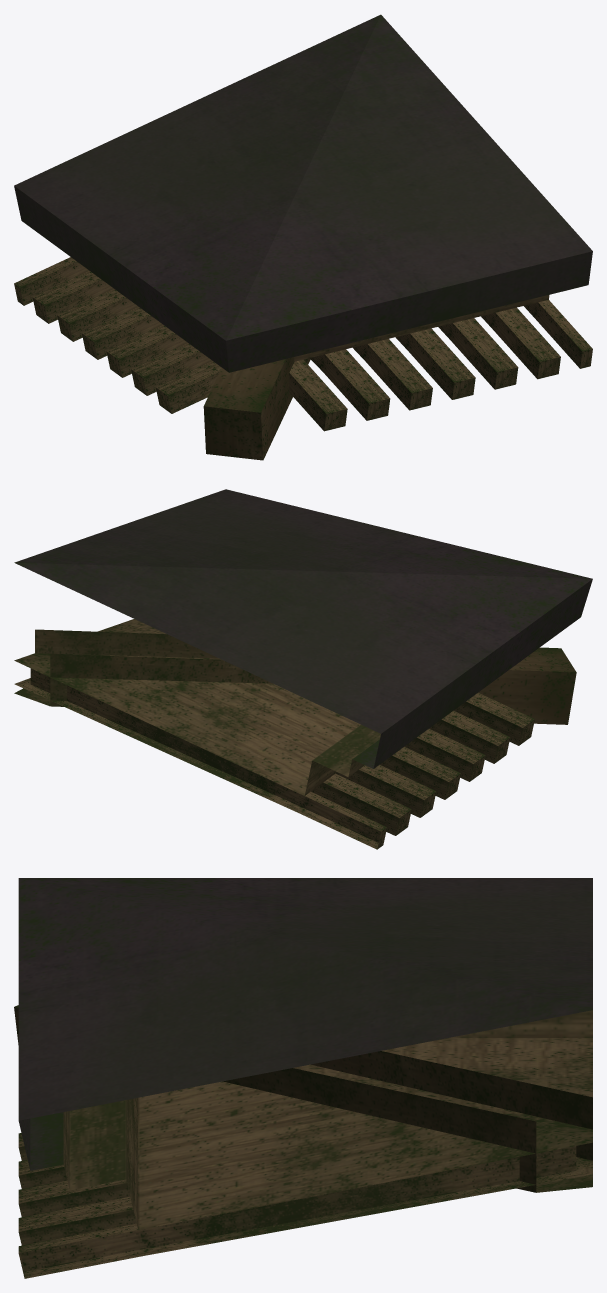
The model's file is shrine_roof_11.fbx.
The picture shows the model from 3 angles, top to bottom: view 1: azimuth 30°, elevation 25°; view 2: azimuth 150°, elevation 25°; view 3: azimuth 270°, elevation 25°; orthographic projection. The views are drawn at different scales.
Parts seen in each view (by area): view 1: shrine_roof_11; view 2: shrine_roof_11; view 3: shrine_roof_11.
Part boxes in pixels (<box>): shrine_roof_11: <box>14,14,592,460</box>; shrine_roof_11: <box>14,489,592,849</box>; shrine_roof_11: <box>14,878,592,1278</box>.
Size of the model in its own units: 204 by 112 by 204.
1 material, 1 textured.
